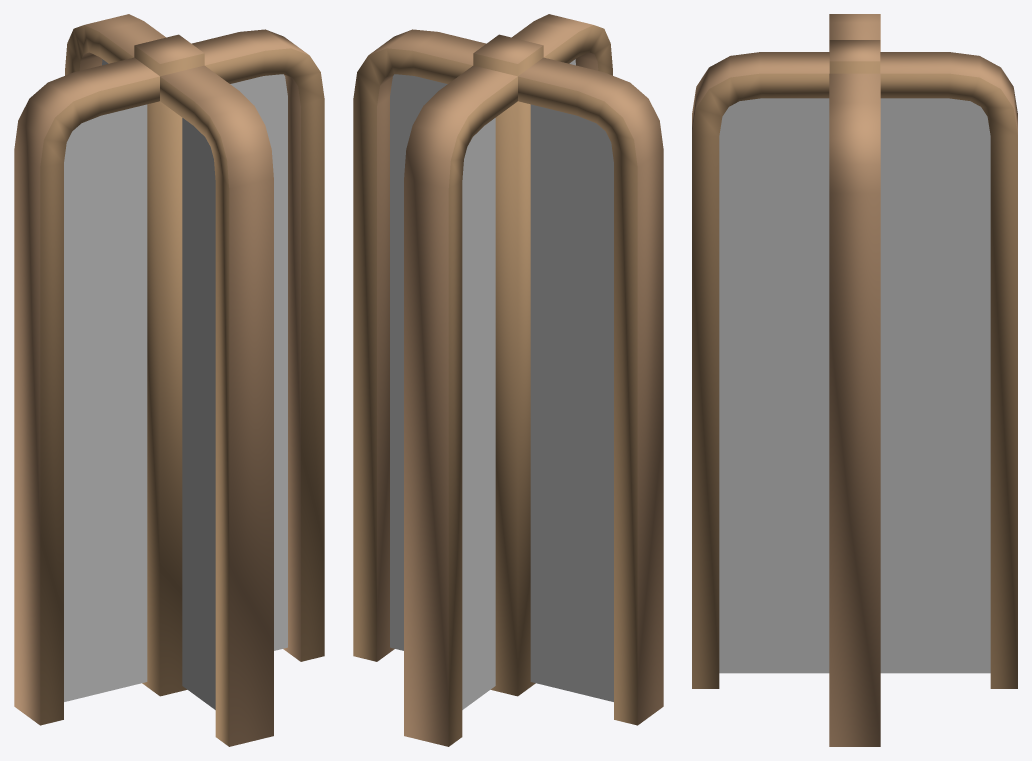
The model's file is Home_B_RF_33_06_SM.fbx.
The picture shows the model from 3 angles, left to right: view 1: azimuth 30°, elevation 25°; view 2: azimuth 150°, elevation 25°; view 3: azimuth 270°, elevation 25°; orthographic projection.
Parts seen in each view (by area): view 1: Home_B_RF_33_06, Home_B_RF_33_06_P; view 2: Home_B_RF_33_06, Home_B_RF_33_06_P; view 3: Home_B_RF_33_06_P, Home_B_RF_33_06.
Part boxes in pixels (bbox=[...]): Home_B_RF_33_06: bbox=[14, 14, 324, 746]; Home_B_RF_33_06_P: bbox=[64, 59, 287, 709]; Home_B_RF_33_06: bbox=[353, 14, 663, 746]; Home_B_RF_33_06_P: bbox=[390, 59, 613, 709]; Home_B_RF_33_06_P: bbox=[719, 98, 990, 673]; Home_B_RF_33_06: bbox=[692, 14, 1017, 746].
Bounding box in the file's own units: 96 × 204 × 96.
